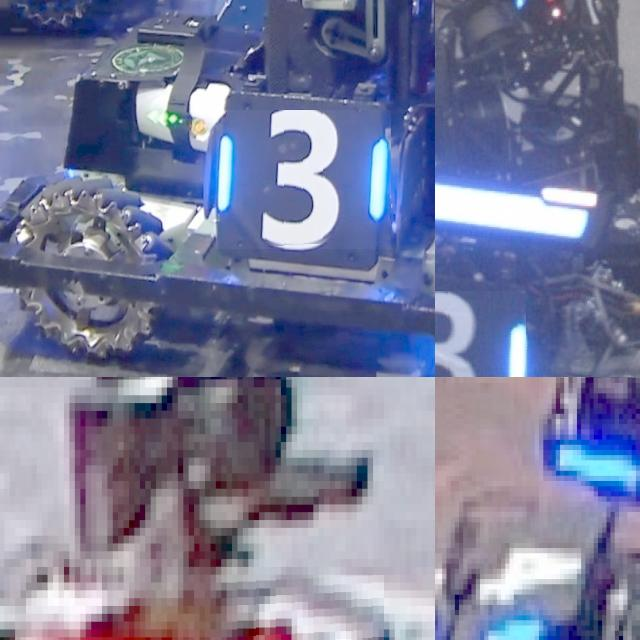B3: (216, 110, 391, 249), (435, 291, 525, 377)
B4: (459, 517, 581, 640)
R3: (226, 575, 384, 640)
